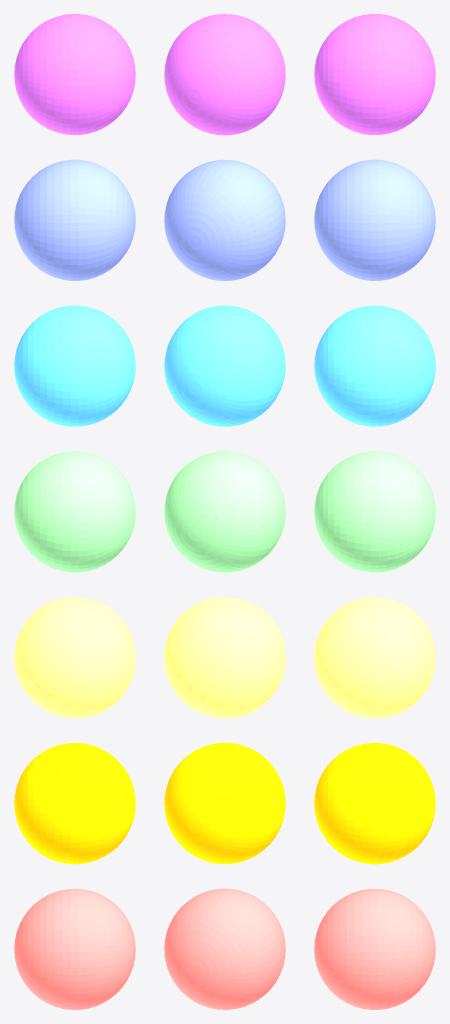
Rendered from wb_chakras.glb.
3 views of the same model, side by side, from view 1: azimuth 90°, elevation 25°; view 2: azimuth 150°, elevation 25°; view 3: azimuth 270°, elevation 25° (orthographic).
Parts seen in each view (by area): view 1: chakra1, chakra5, chakra2, chakra4, chakra0, chakra6, chakra3; view 2: chakra0, chakra6, chakra3, chakra2, chakra4, chakra1, chakra5; view 3: chakra1, chakra5, chakra2, chakra4, chakra0, chakra6, chakra3.
Part boxes in pixels (x1,y1,x2,y2): chakra1: (14,743,135,864); chakra5: (14,159,135,280); chakra2: (14,597,135,718); chakra4: (14,305,135,426); chakra0: (14,889,135,1009); chakra6: (14,14,135,134); chakra3: (14,451,135,572); chakra0: (164,888,285,1009); chakra6: (164,14,285,135); chakra3: (164,451,285,572); chakra2: (164,597,285,718); chakra4: (164,305,285,426); chakra1: (164,743,285,864); chakra5: (164,159,285,280); chakra1: (314,743,435,864); chakra5: (314,159,435,280); chakra2: (314,597,435,718); chakra4: (314,305,435,426); chakra0: (314,889,435,1009); chakra6: (314,14,435,134); chakra3: (314,451,435,572).
Size of the model in its own units: 0.6784 by 6.08 by 0.68.
